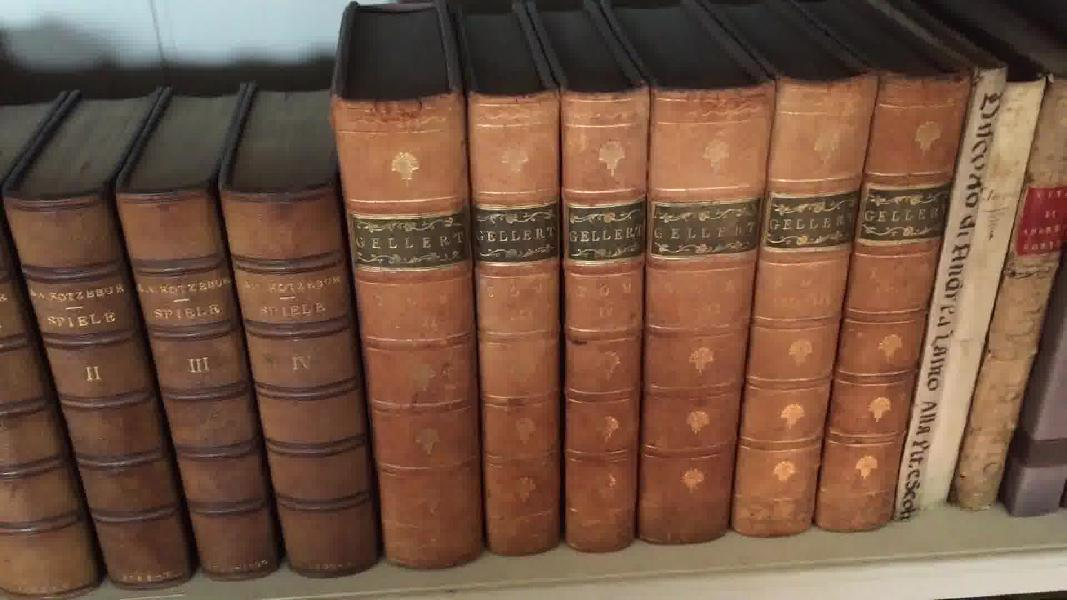Aa6-14_17: (6, 163, 379, 582)
Aa6-18_23: (329, 66, 975, 563)
Aa6-24: (875, 66, 1015, 528)
Aa6-25: (915, 58, 1043, 527)
Aa6-26: (967, 47, 1067, 517)
